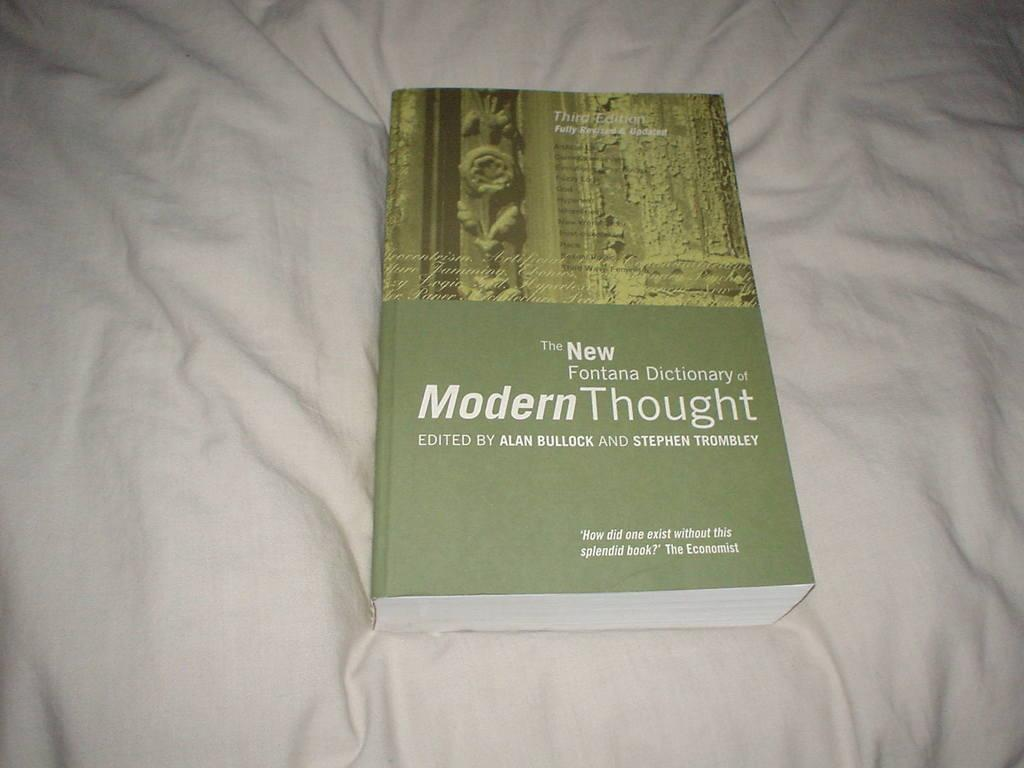book: (348, 89, 825, 634)
